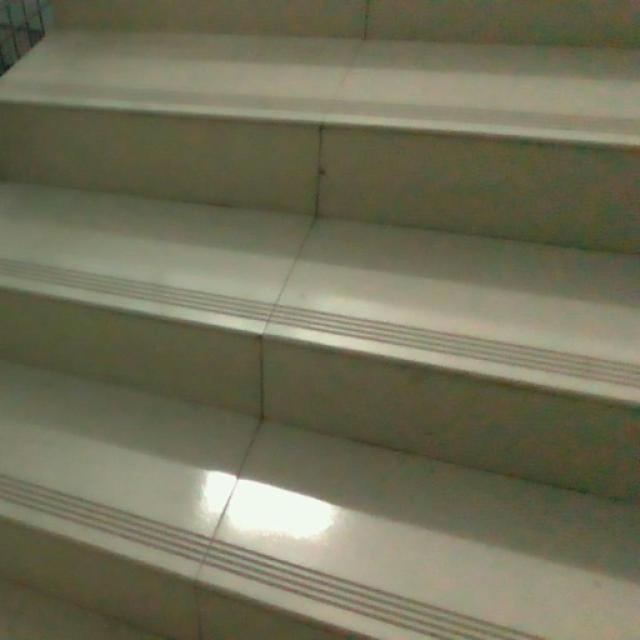stair: (2, 29, 640, 627)
